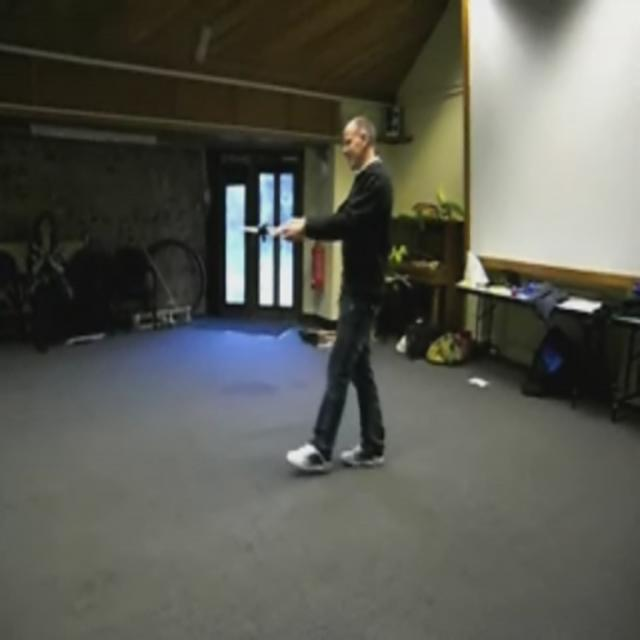desk: (458, 274, 608, 406)
person: (271, 114, 395, 474)
